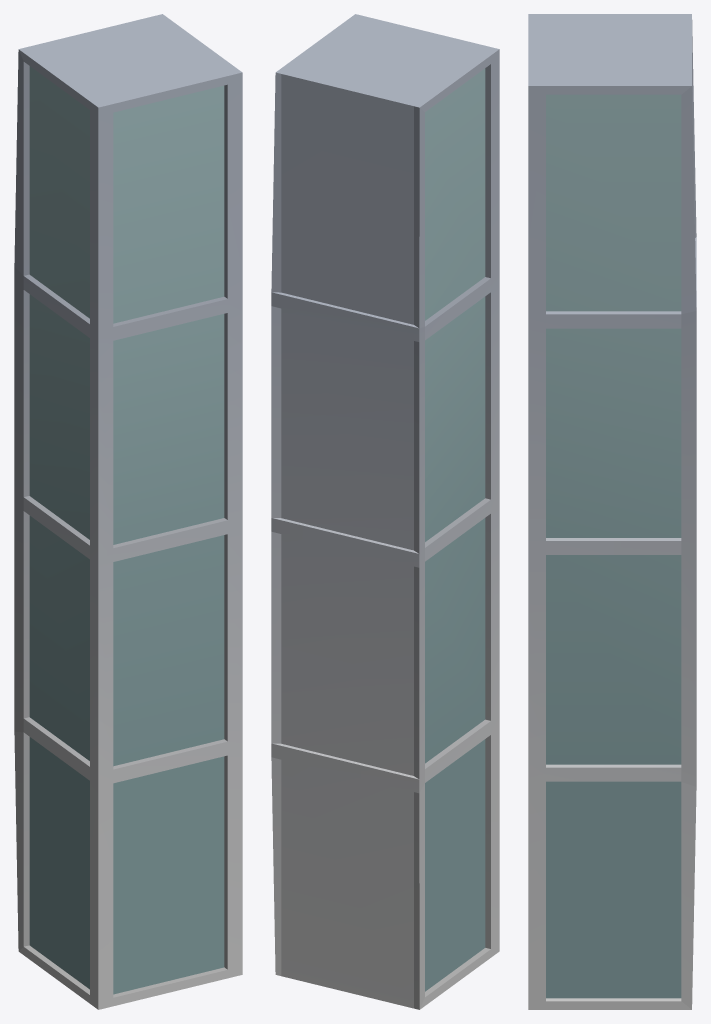
The model's file is Elevator.fbx.
3 views of the same model, side by side, from view 1: azimuth 30°, elevation 25°; view 2: azimuth 150°, elevation 25°; view 3: azimuth 270°, elevation 25° (orthographic). The views are drawn at different scales.
Parts seen in each view (by area): view 1: Lift.004; view 2: Lift.004; view 3: Lift.004.
Part boxes in pixels (x1,y1,x2,y2): Lift.004: (14,14,242,1009); Lift.004: (271,14,499,1009); Lift.004: (528,14,696,1009).
Size of the model in its own units: 469 by 2733 by 451.
